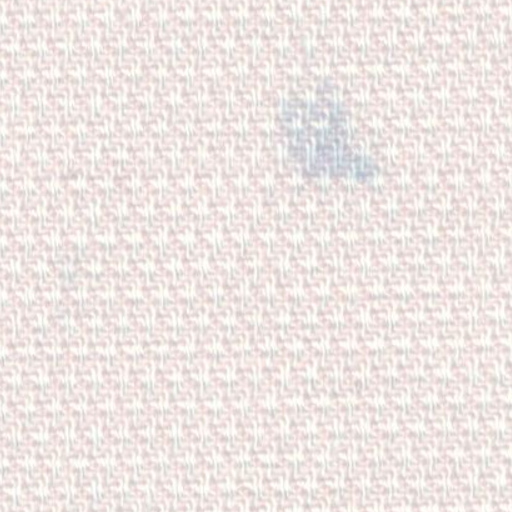WuZi: (262, 70, 400, 203)
